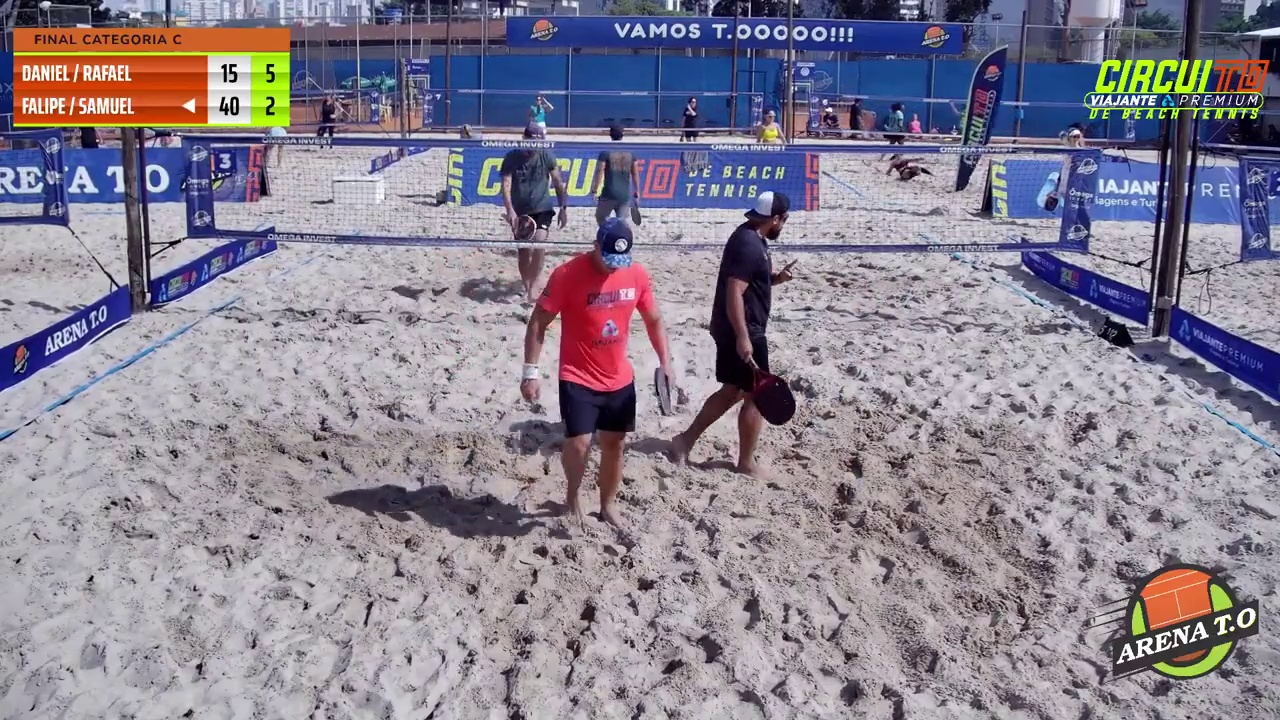court_line: (640, 0, 806, 497)
